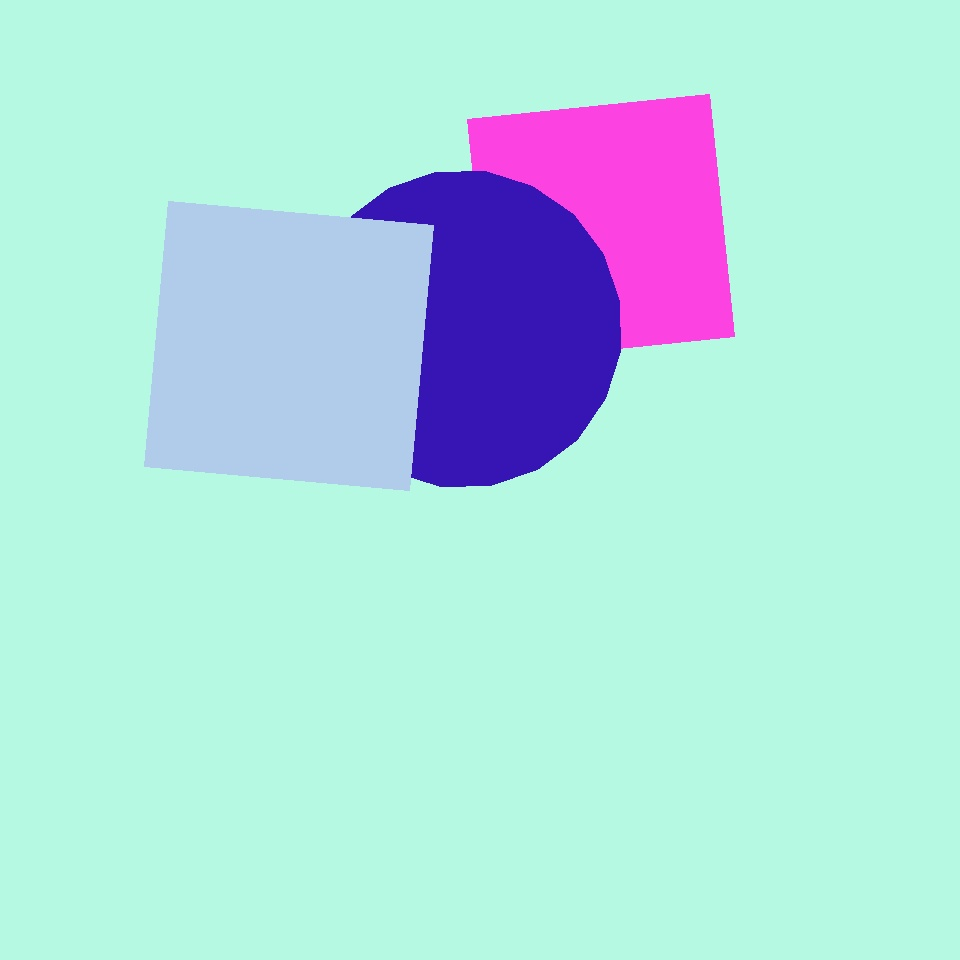square: (144, 202, 434, 491), (468, 94, 734, 362)
triangle: (306, 172, 620, 487)
